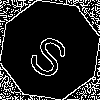S: (25, 25, 77, 82)
